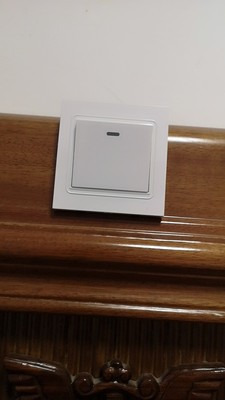switch: (66, 107, 158, 201)
